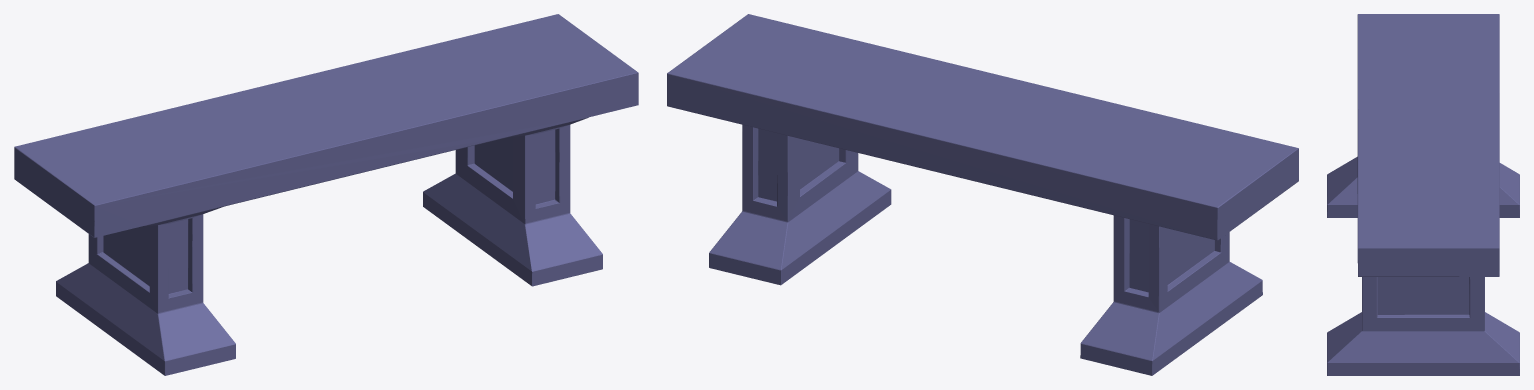
File: ParkBench.fbx
3 views of the same model, side by side, from view 1: azimuth 30°, elevation 25°; view 2: azimuth 150°, elevation 25°; view 3: azimuth 270°, elevation 25° (orthographic). The views are drawn at different scales.
Visible parts, largest first — view 1: ParkBench; view 2: ParkBench; view 3: ParkBench.
Part boxes in pixels (x1,y1,x2,y2): ParkBench: (14, 14, 638, 375); ParkBench: (667, 14, 1298, 375); ParkBench: (1327, 14, 1519, 375).
Bounding box in the file's own units: 128 × 38.54 × 44.65.
